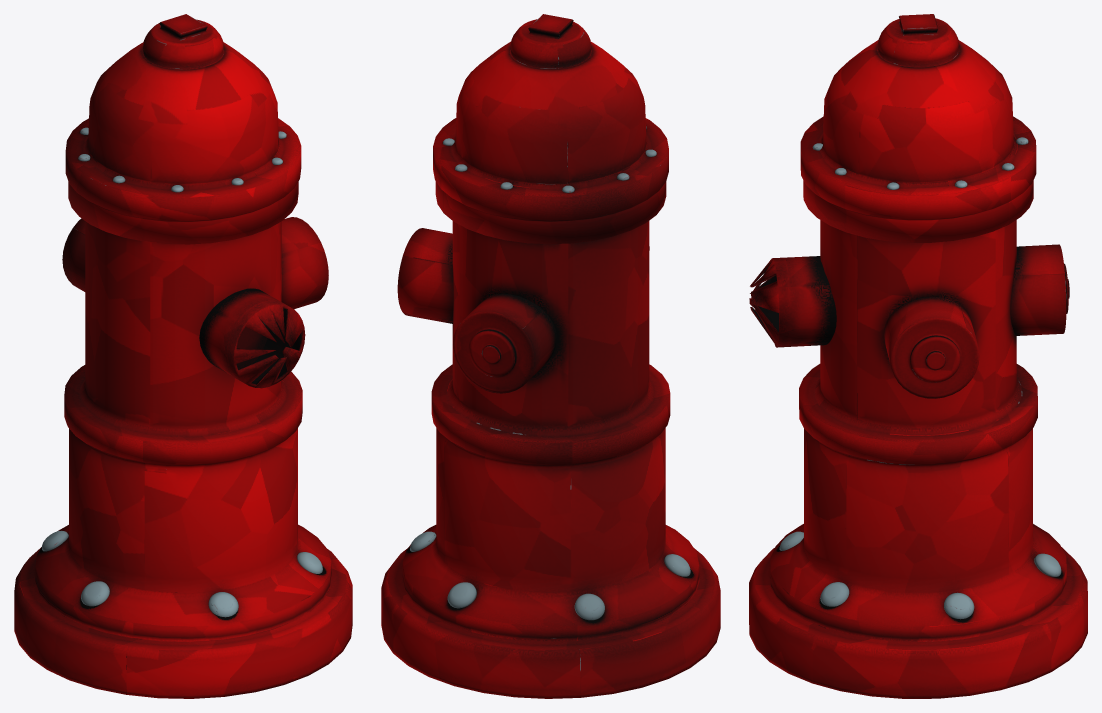
Rendered from BOCA_INCENDIOS.fbx.
3 renders of one model, left to right at view 1: azimuth 30°, elevation 25°; view 2: azimuth 150°, elevation 25°; view 3: azimuth 270°, elevation 25°, orthographic.
Parts seen in each view (by area): view 1: BOCA_INCENDIOS_Baked; view 2: BOCA_INCENDIOS_Baked; view 3: BOCA_INCENDIOS_Baked.
Boxes of the visible parts, x1,y1,x2,y2 form: BOCA_INCENDIOS_Baked: (14, 14, 352, 698); BOCA_INCENDIOS_Baked: (381, 14, 720, 698); BOCA_INCENDIOS_Baked: (749, 14, 1087, 698).
Bounding box in the file's own units: 65.52 × 129 × 65.52.
1 material, 1 textured.
